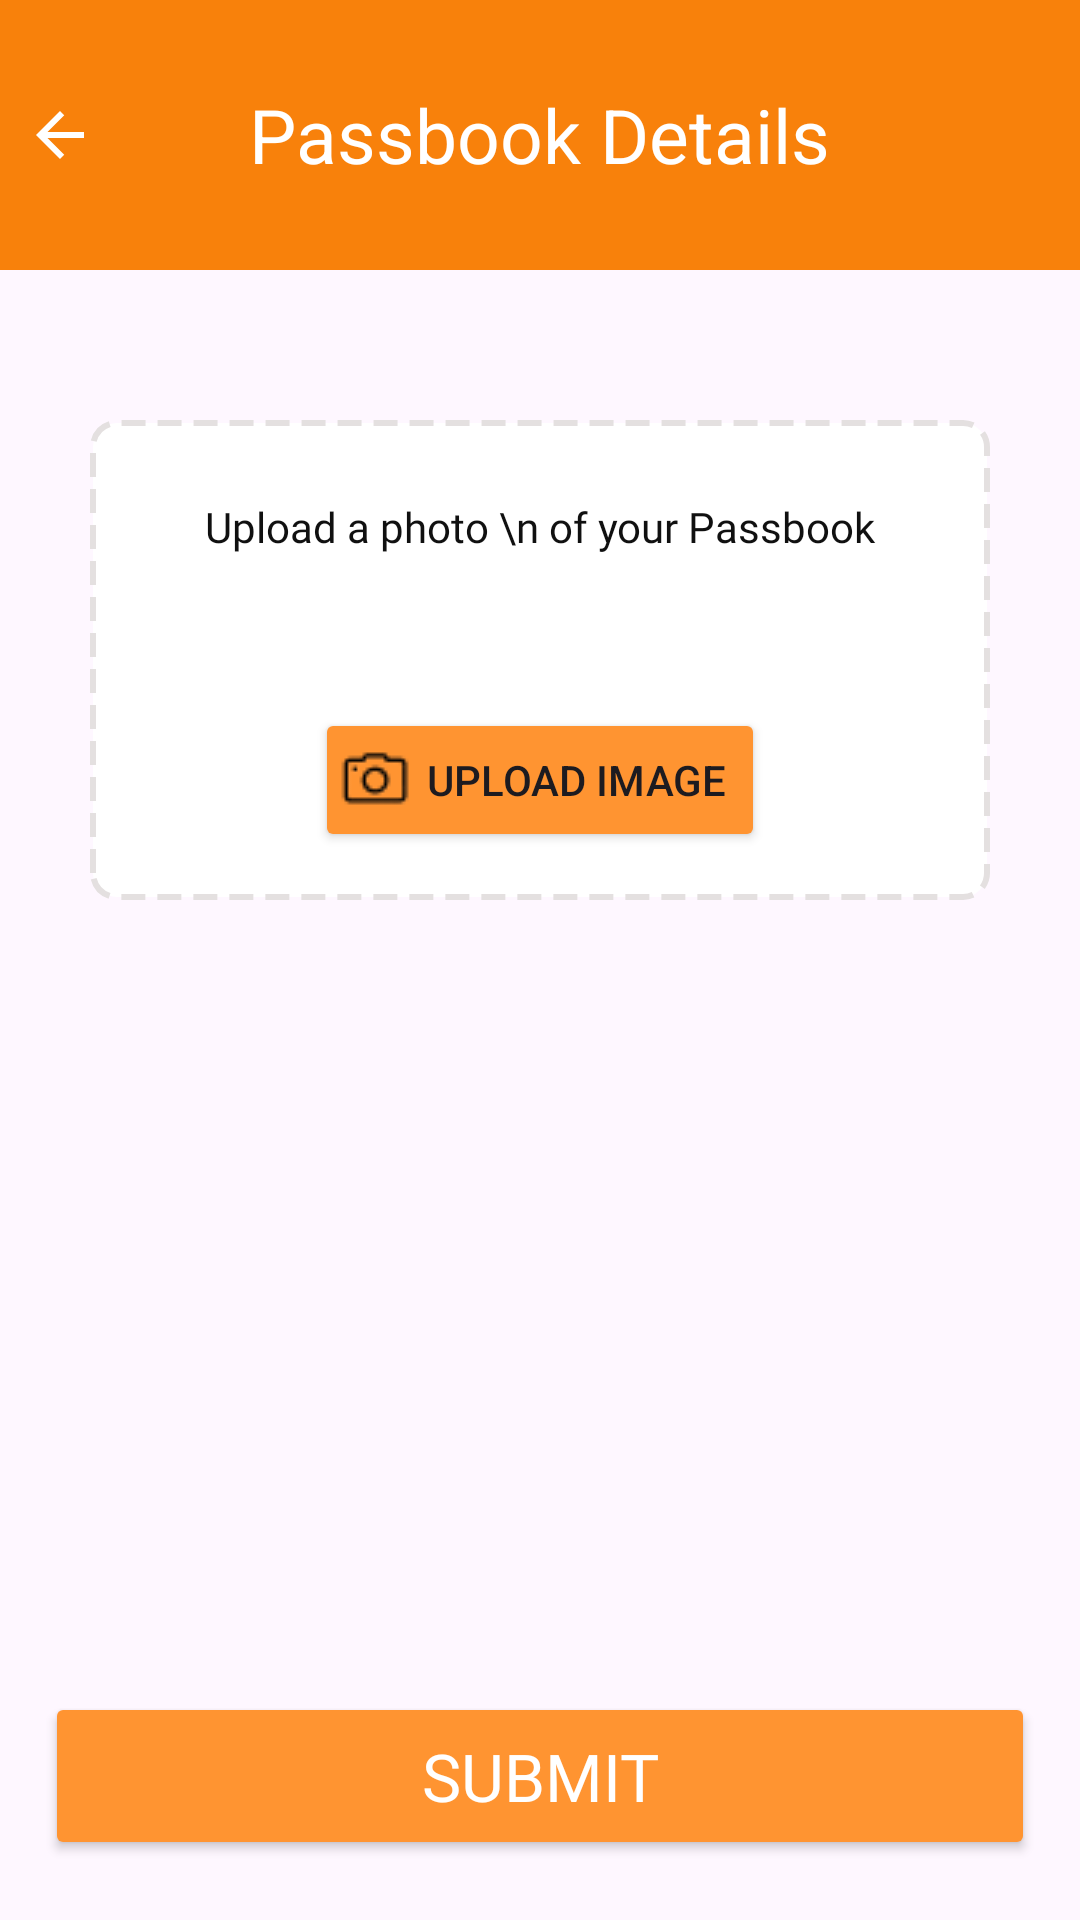

Where to tap for icons on this 1080x1920 app screen, as [x,y]:
Back: [60,135]
